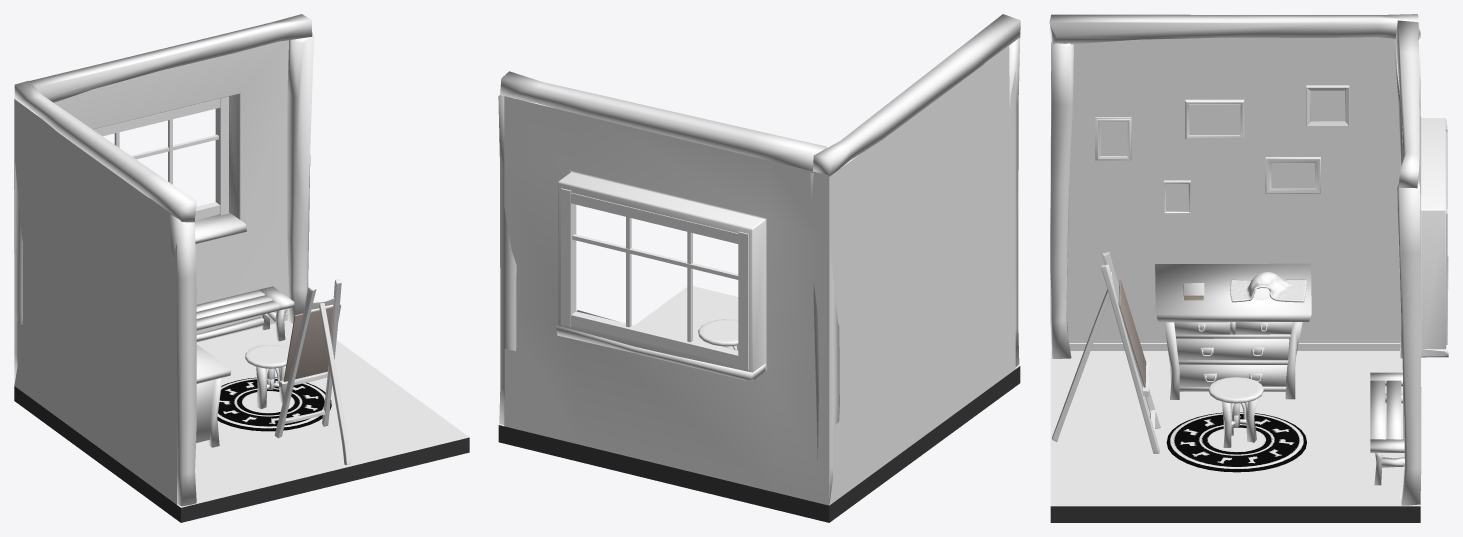
3 views of the same model, side by side, from view 1: azimuth 30°, elevation 25°; view 2: azimuth 150°, elevation 25°; view 3: azimuth 270°, elevation 25° (orthographic). The views are drawn at different scales.
Visible parts, largest first — view 1: Wall2, Wall1, Floor, Ground Plate, Beam2, Beam5, Beam3, Easel.001, Beam4, Rug.001, Bench.001, Dresser.001 (+5 smaller); view 2: Wall1, Wall2, Ground Plate, Beam5, Beam4, Beam2, Floor, Cube.008, Beam2.001, Cube.006, Window Board, Cube.007 (+6 smaller); view 3: Wall2, Floor, Dresser.001, Beam4, Beam2, Wall1, Ground Plate, Beam3, Rug.001, Easel.001, Beam5, Bench.001 (+9 smaller).
Boxes of the visible parts, <box> form: Wall2: <box>14,99,176,504</box>; Wall1: <box>14,40,288,333</box>; Floor: <box>177,320,469,507</box>; Ground Plate: <box>14,386,469,522</box>; Beam2: <box>287,34,313,323</box>; Beam5: <box>29,14,312,102</box>; Beam3: <box>170,214,196,506</box>; Easel.001: <box>274,279,350,464</box>; Beam4: <box>14,80,196,222</box>; Rug.001: <box>217,377,331,431</box>; Bench.001: <box>196,286,294,341</box>; Dresser.001: <box>196,344,231,447</box>; Wall1: <box>504,96,829,505</box>; Wall2: <box>829,40,1015,505</box>; Ground Plate: <box>498,366,1020,522</box>; Beam5: <box>500,71,826,171</box>; Beam4: <box>813,14,1020,176</box>; Beam2: <box>498,95,530,424</box>; Floor: <box>499,286,1019,426</box>; Cube.008: <box>571,311,738,365</box>; Beam2.001: <box>810,172,839,503</box>; Cube.006: <box>561,188,576,326</box>; Window Board: <box>556,310,765,380</box>; Cube.007: <box>571,193,738,243</box>; Wall2: <box>1066,31,1420,342</box>; Floor: <box>1050,350,1420,506</box>; Dresser.001: <box>1155,263,1311,399</box>; Beam4: <box>1049,14,1420,45</box>; Beam2: <box>1397,180,1421,505</box>; Wall1: <box>1420,116,1446,356</box>; Ground Plate: <box>1050,506,1420,522</box>; Beam3: <box>1050,42,1073,358</box>; Rug.001: <box>1166,412,1306,472</box>; Easel.001: <box>1051,251,1160,453</box>; Beam5: <box>1396,20,1419,188</box>; Bench.001: <box>1370,372,1404,485</box>.
Size of the model in its own units: 2.02 by 2.1 by 2.16.
26 materials, 1 textured.
